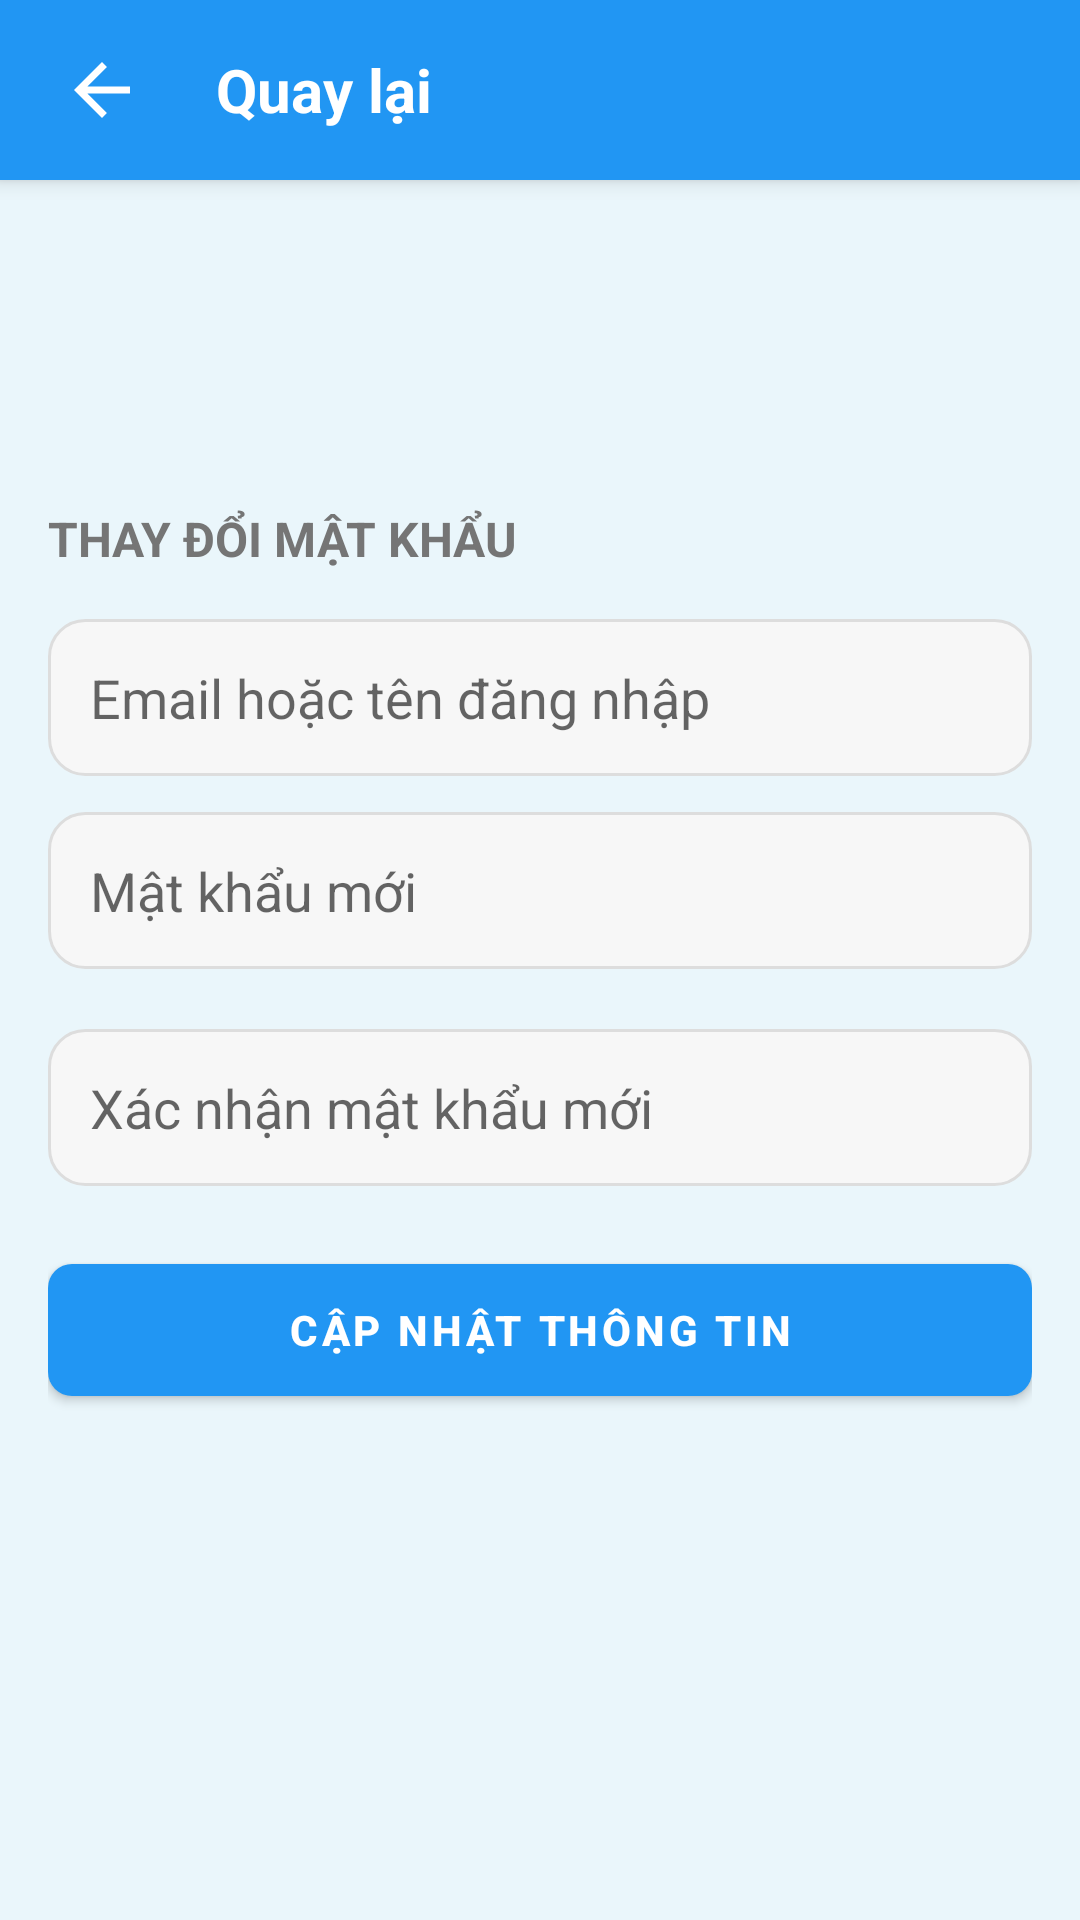

Named icons in this screenshot (1080x1920) and their bounding boxes, (x1, y1, x2, y2):
back: (74, 62, 130, 118)
